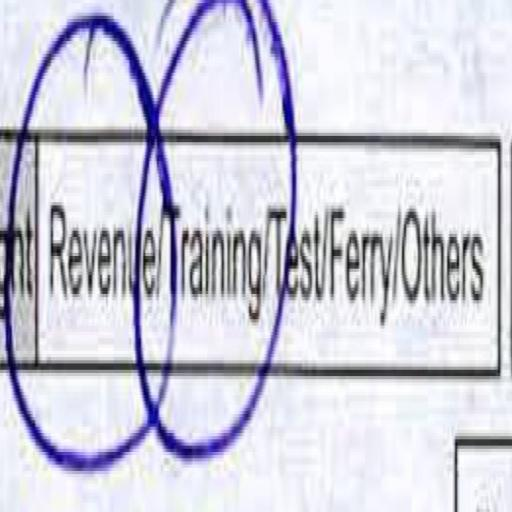check: (154, 0, 273, 470), (32, 26, 142, 480)
